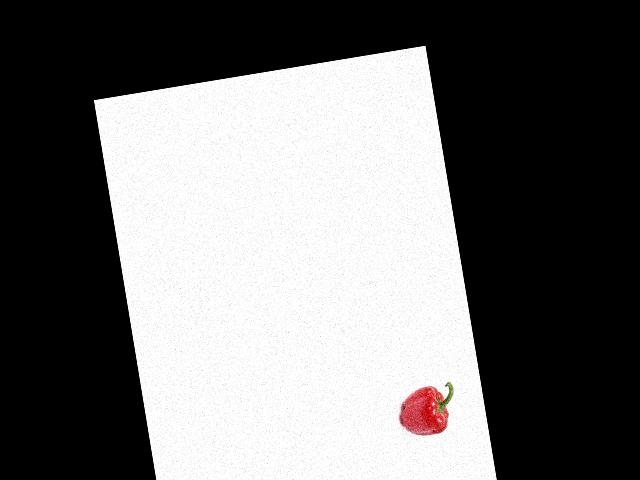bell_pepper: (394, 378, 461, 443)
